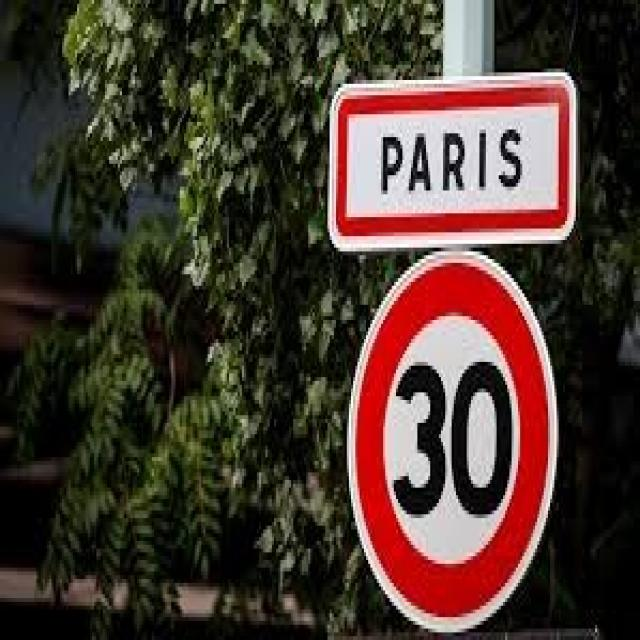speed_limit_30: (341, 245, 562, 635)
